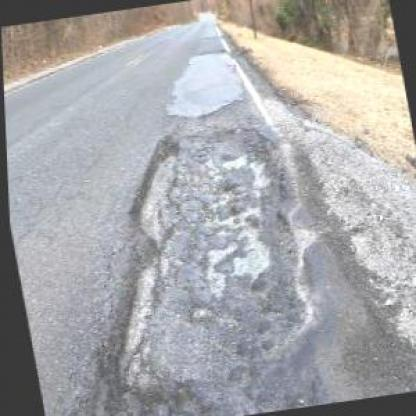pothole: (57, 112, 330, 415)
